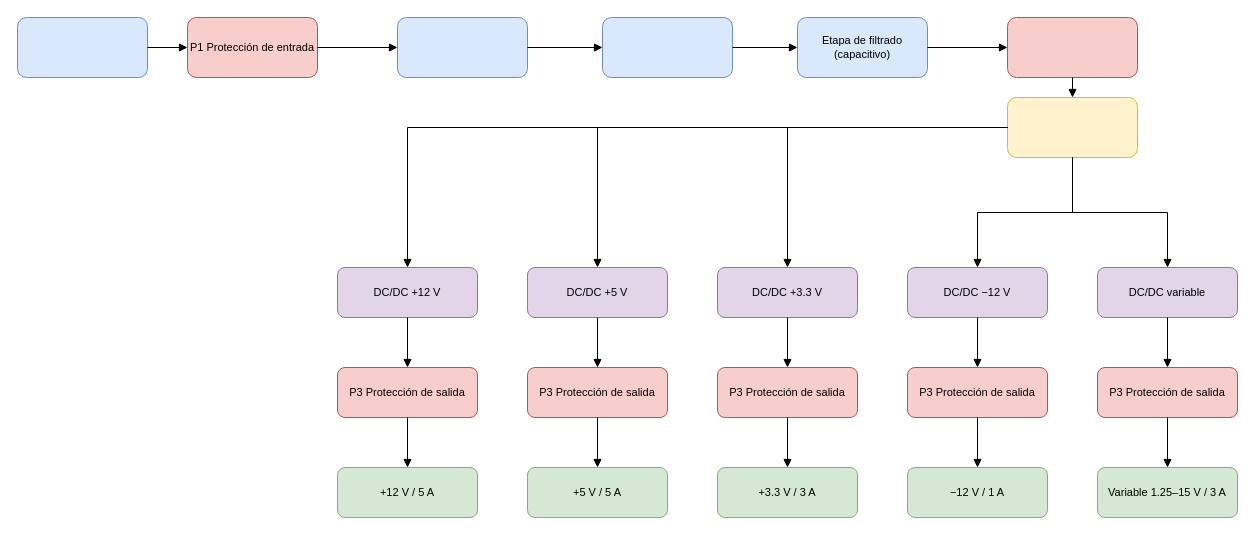
Image size: 1255x535. Some labels were removed from this diagram. Each missing label, with the centre of its shape:
"Bus VIN DC" goes at (x=1072, y=127).
"Entrada AC" goes at (x=82, y=47).
"P2 Protección del bus DC" goes at (x=1072, y=47).
"Rectificador (puente de diodos)" goes at (x=667, y=47).
"Transformador" goes at (x=462, y=47).
